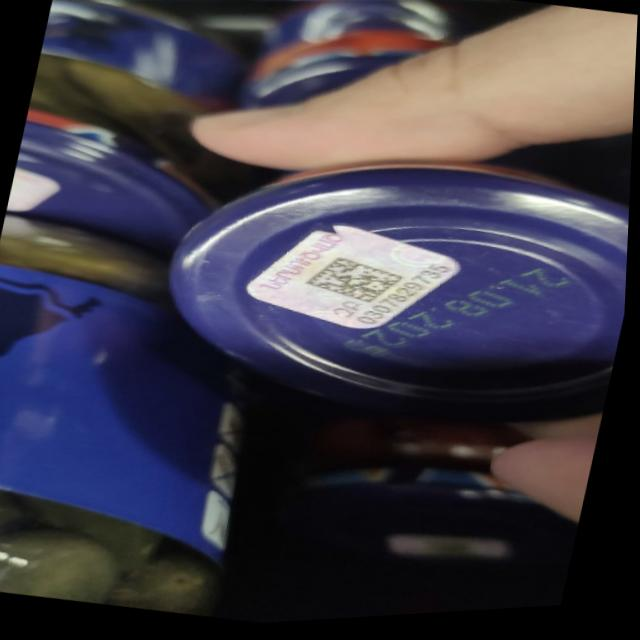datamatrix: (301, 252, 411, 316)
